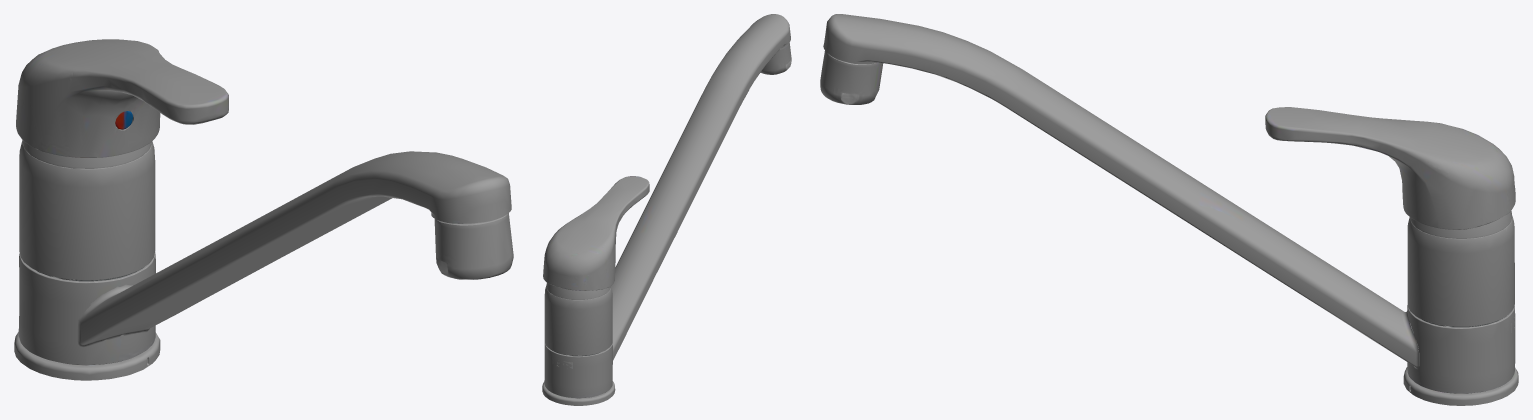
The model's file is LAGAN Mitigeur chromé.glb.
3 renders of one model, left to right at view 1: azimuth 30°, elevation 25°; view 2: azimuth 150°, elevation 25°; view 3: azimuth 270°, elevation 25°, orthographic. The views are drawn at different scales.
Visible parts, largest first — view 1: 10085027-LAGAN001; view 2: 10085027-LAGAN001; view 3: 10085027-LAGAN001.
Part boxes in pixels (<box>): 10085027-LAGAN001: <box>14,39,513,380</box>; 10085027-LAGAN001: <box>542,14,791,405</box>; 10085027-LAGAN001: <box>820,14,1518,405</box>.
Size of the model in its own units: 0.0461 by 0.1605 by 0.2793.
1 material, 1 textured.
